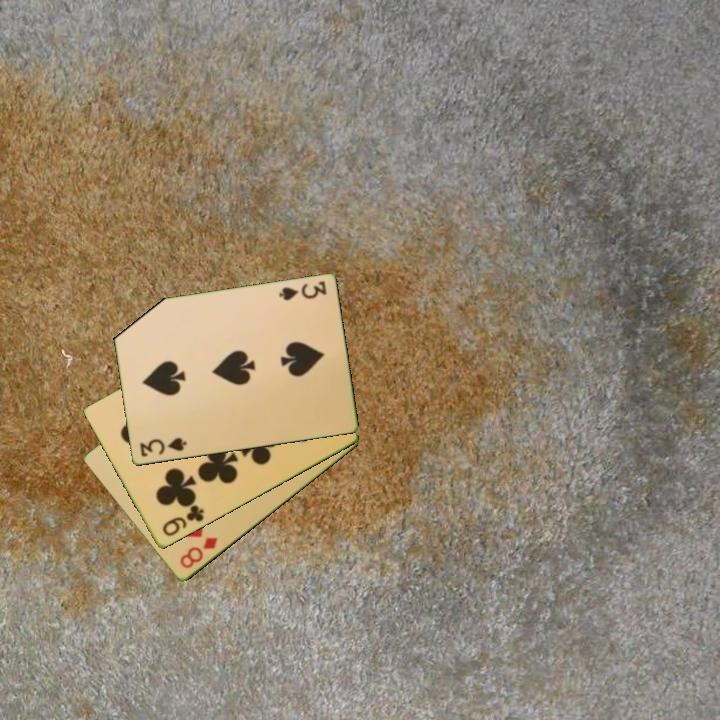3s: (275, 278, 329, 304), (136, 434, 189, 460)
8d: (176, 534, 221, 572)
9c: (158, 502, 207, 540)
